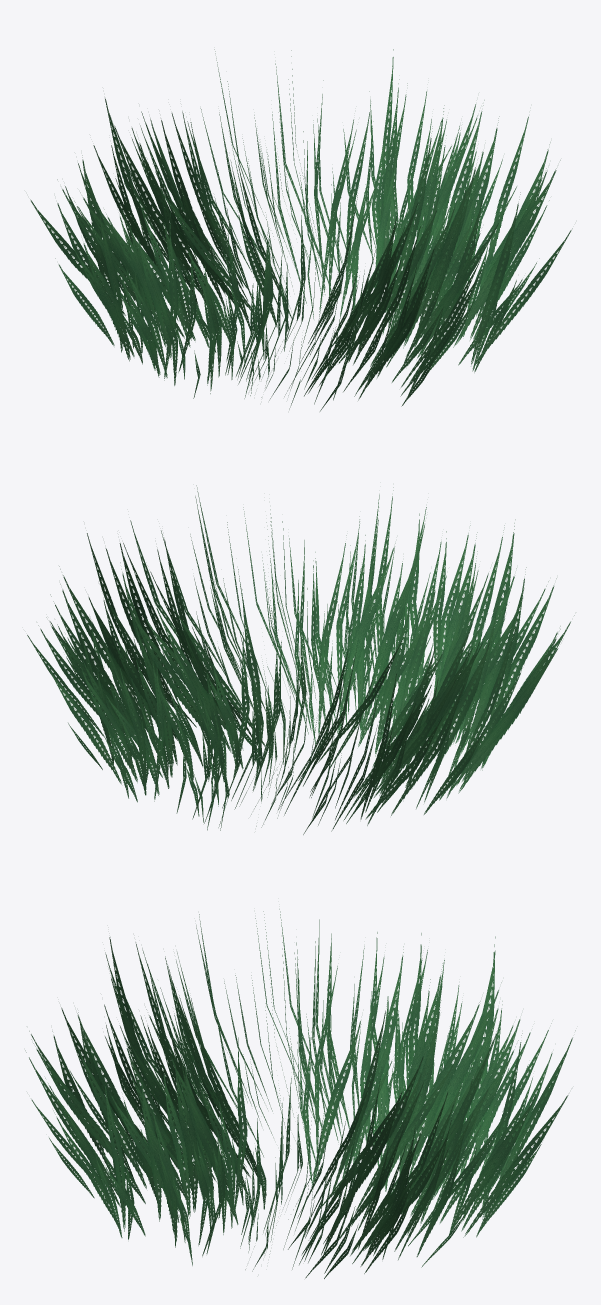
File: GRASS_03_Meadow_Blue.glb
The picture shows the model from 3 angles, top to bottom: view 1: azimuth 30°, elevation 25°; view 2: azimuth 150°, elevation 25°; view 3: azimuth 270°, elevation 25°; orthographic projection. The views are drawn at different scales.
Visible parts, largest first — view 1: GRASS_03_Meadow_Blue__FoliageCards; view 2: GRASS_03_Meadow_Blue__FoliageCards; view 3: GRASS_03_Meadow_Blue__FoliageCards.
Part boxes in pixels (x1,y1,x2,y2): GRASS_03_Meadow_Blue__FoliageCards: (30, 49, 572, 411); GRASS_03_Meadow_Blue__FoliageCards: (27, 485, 574, 834); GRASS_03_Meadow_Blue__FoliageCards: (25, 909, 575, 1278).
Bounding box in the file's own units: 0.9211 × 0.4142 × 0.8963.
Materials: 1 (1 with a texture image).
